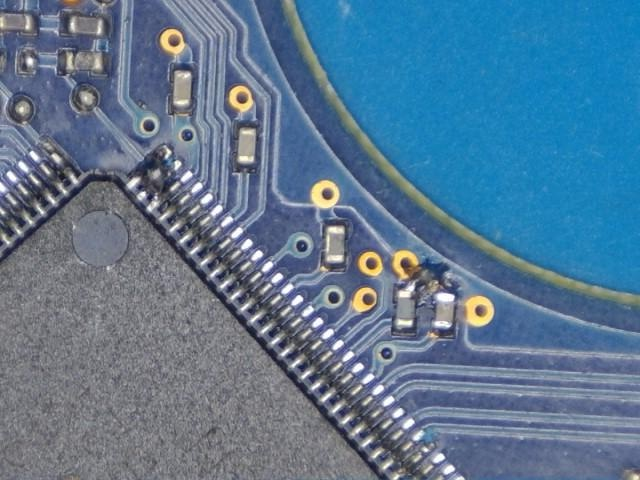pcb_defect: (125, 145, 193, 214), (399, 281, 455, 308)
